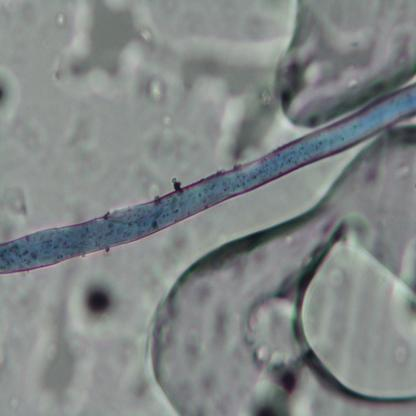Air bubble: (150, 141, 416, 416), (275, 0, 416, 129)
Background material: (141, 19, 283, 164), (50, 0, 145, 101), (236, 284, 308, 416), (34, 297, 87, 416), (70, 273, 125, 331), (328, 204, 374, 251), (60, 107, 99, 150), (0, 184, 33, 232), (0, 73, 28, 120), (146, 76, 168, 108), (51, 11, 71, 32)
Microfibre: (0, 85, 416, 274)
